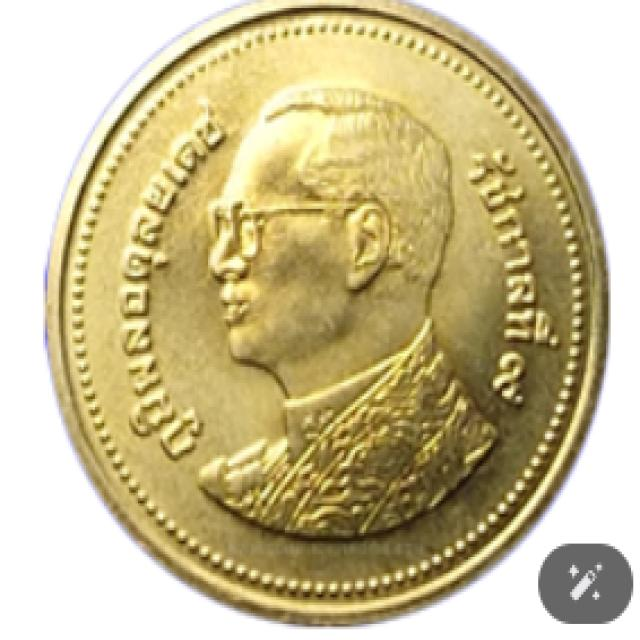2 Bath: (43, 1, 622, 638)
